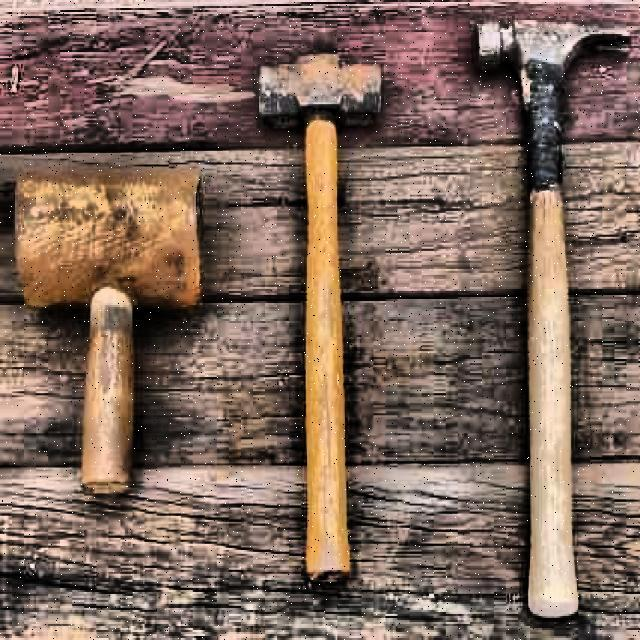hammer: (471, 10, 633, 616), (259, 59, 375, 578)
